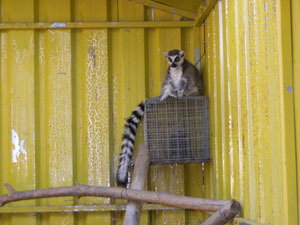cat: (112, 47, 208, 188)
